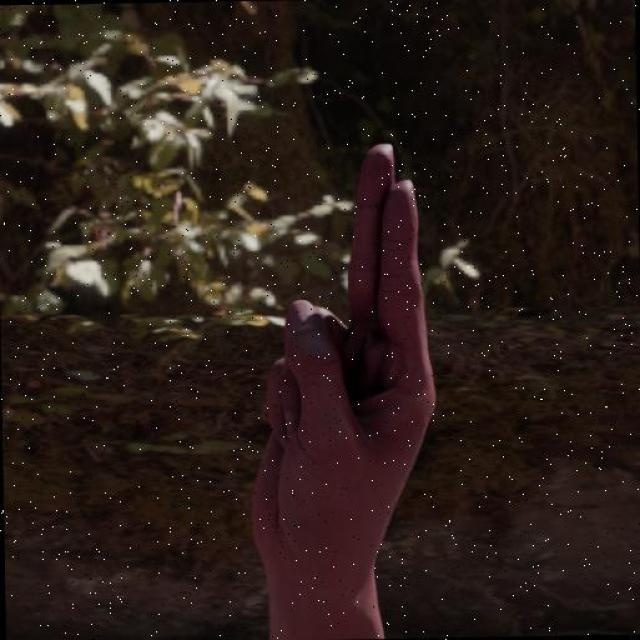U: (242, 137, 447, 564)
